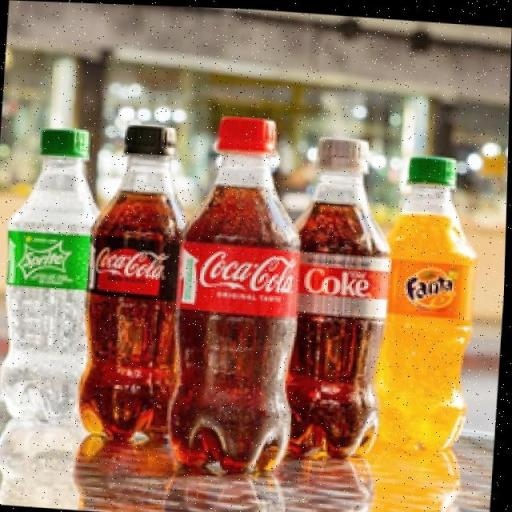plastic: (171, 117, 305, 472), (285, 132, 393, 458), (82, 124, 188, 439), (375, 155, 479, 452), (1, 131, 100, 422)
